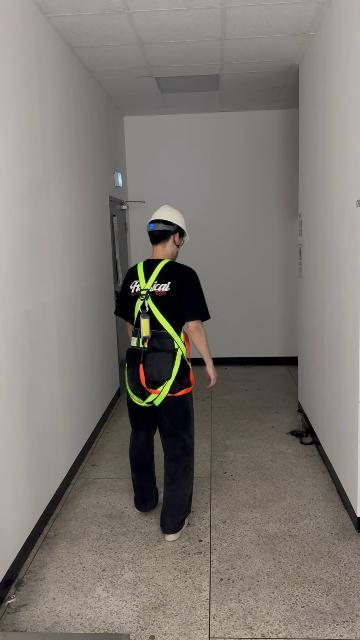helmet_worn: (147, 204, 190, 245)
shoe_not_worn: (165, 519, 188, 541), (134, 491, 157, 513)
vest_worn: (125, 267, 189, 392)
